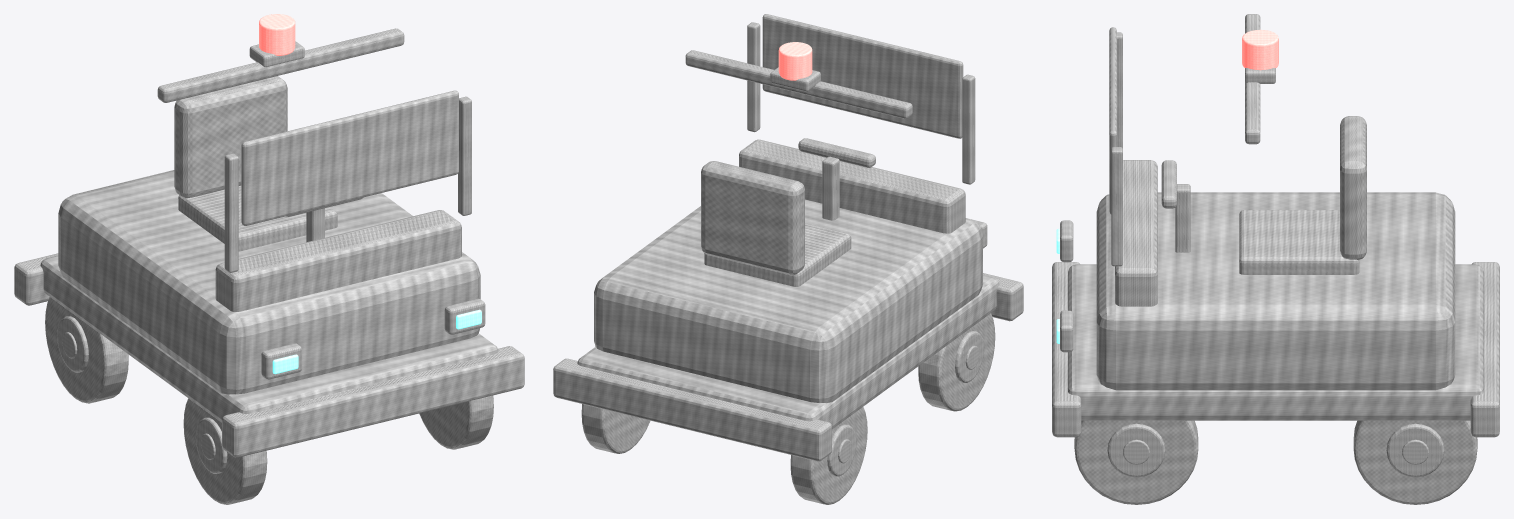
Rendered from factory_cart_variant_a.glb.
3 renders of one model, left to right at view 1: azimuth 30°, elevation 25°; view 2: azimuth 150°, elevation 25°; view 3: azimuth 270°, elevation 25°, orthographic. The views are drawn at different scales.
Visible parts, largest first — view 1: Cart body, Folded windshield, Front dashboard, Front bumper, Lower chassis, Driver seat back, Roof support crossbar, Grip wheel.001, Driver seat base, Grip wheel, Grip wheel.002, Windshield support (+9 smaller); view 2: Cart body, Folded windshield, Rear bumper, Driver seat back, Lower chassis, Front dashboard, Grip wheel, Roof support crossbar, Grip wheel.001, Driver seat base, Grip wheel.003, Windshield support (+8 smaller); view 3: Cart body, Lower chassis, Driver seat base, Grip wheel.002, Grip wheel.003, Front dashboard, Driver seat back, Rear bumper, Front bumper, Wheel hub.002, Wheel hub.003, Windshield support.001 (+10 smaller).
Part boxes in pixels (<box>): Cart body: <box>58,170,480,394</box>; Folded windshield: <box>241,90,458,225</box>; Front dashboard: <box>215,210,461,311</box>; Front bumper: <box>222,346,524,457</box>; Lower chassis: <box>40,255,498,422</box>; Driver seat back: <box>174,76,287,198</box>; Roof support crossbar: <box>157,28,404,102</box>; Grip wheel.001: <box>45,297,128,403</box>; Driver seat base: <box>178,185,337,251</box>; Grip wheel: <box>183,398,267,504</box>; Grip wheel.002: <box>419,395,493,449</box>; Windshield support: <box>224,153,238,272</box>; Cart body: <box>594,199,982,403</box>; Folded windshield: <box>762,14,963,138</box>; Rear bumper: <box>553,358,831,461</box>; Driver seat back: <box>701,161,804,274</box>; Lower chassis: <box>577,275,999,428</box>; Front dashboard: <box>739,139,965,233</box>; Grip wheel: <box>918,313,995,411</box>; Roof support crossbar: <box>685,50,912,118</box>; Grip wheel.001: <box>790,407,867,504</box>; Driver seat base: <box>704,223,851,286</box>; Grip wheel.003: <box>581,404,650,453</box>; Windshield support: <box>962,74,975,184</box>; Cart body: <box>1096,192,1455,390</box>; Lower chassis: <box>1068,264,1483,420</box>; Driver seat base: <box>1239,210,1359,274</box>; Grip wheel.002: <box>1074,420,1198,504</box>; Grip wheel.003: <box>1353,420,1477,504</box>; Front dashboard: <box>1115,160,1157,306</box>; Driver seat back: <box>1340,116,1366,259</box>; Rear bumper: <box>1470,262,1499,437</box>; Front bumper: <box>1052,262,1081,437</box>; Wheel hub.002: <box>1107,423,1165,477</box>; Wheel hub.003: <box>1386,423,1444,477</box>; Windshield support.001: <box>1111,147,1122,266</box>.
Size of what is drawn, in the model's own units: 1.75 by 2.32 by 2.31.
7 materials, 7 textured.
